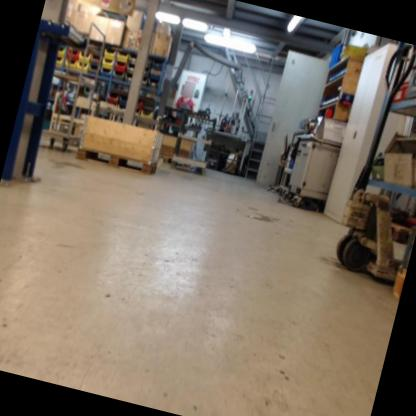pallet: (74, 142, 160, 179), (160, 152, 194, 170)
pallet_truck: (325, 39, 416, 290)
